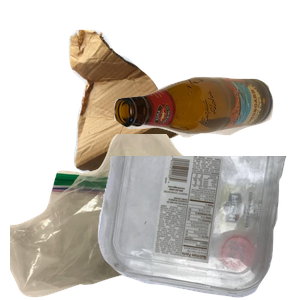cardboard: (66, 27, 242, 197)
glass: (111, 74, 300, 204)
plastic: (95, 156, 300, 300)
trash: (10, 134, 250, 300)
